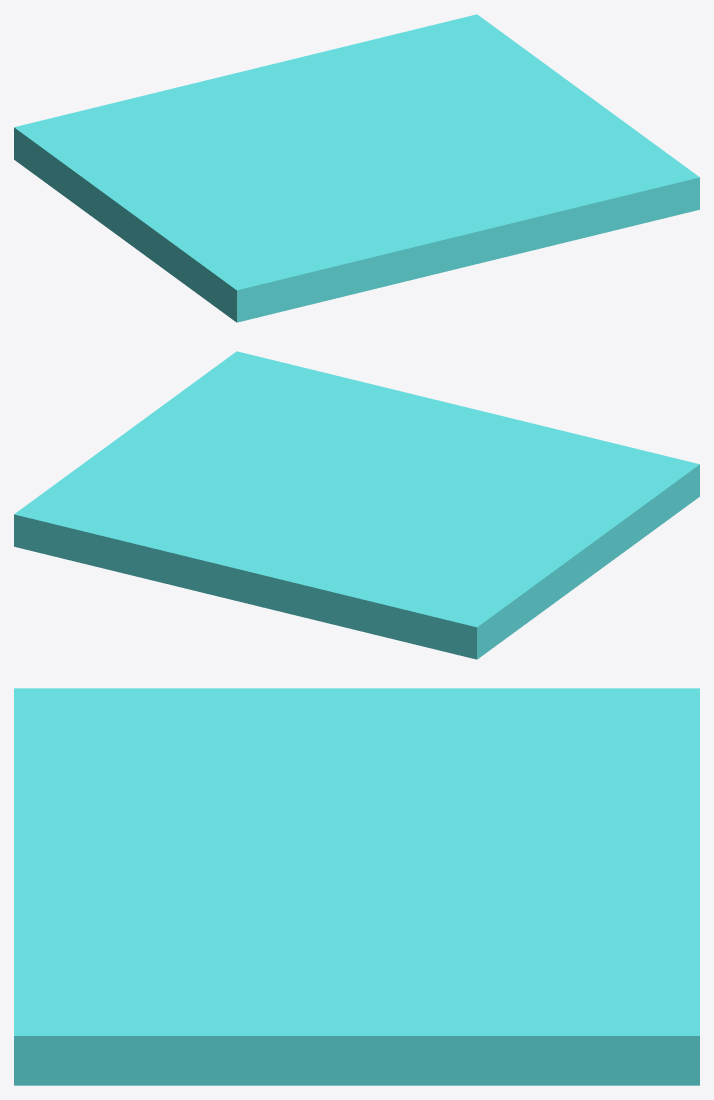
File: mirror-led.glb
The picture shows the model from 3 angles, top to bottom: view 1: azimuth 30°, elevation 25°; view 2: azimuth 150°, elevation 25°; view 3: azimuth 270°, elevation 25°; orthographic projection. The views are drawn at different scales.
Parts seen in each view (by area): view 1: world; view 2: world; view 3: world.
Part boxes in pixels (x1,y1,x2,y2): world: (14, 14, 699, 322); world: (14, 351, 699, 659); world: (14, 688, 699, 1085).
Size of the model in its own units: 0.9 by 0.0925 by 0.75.
